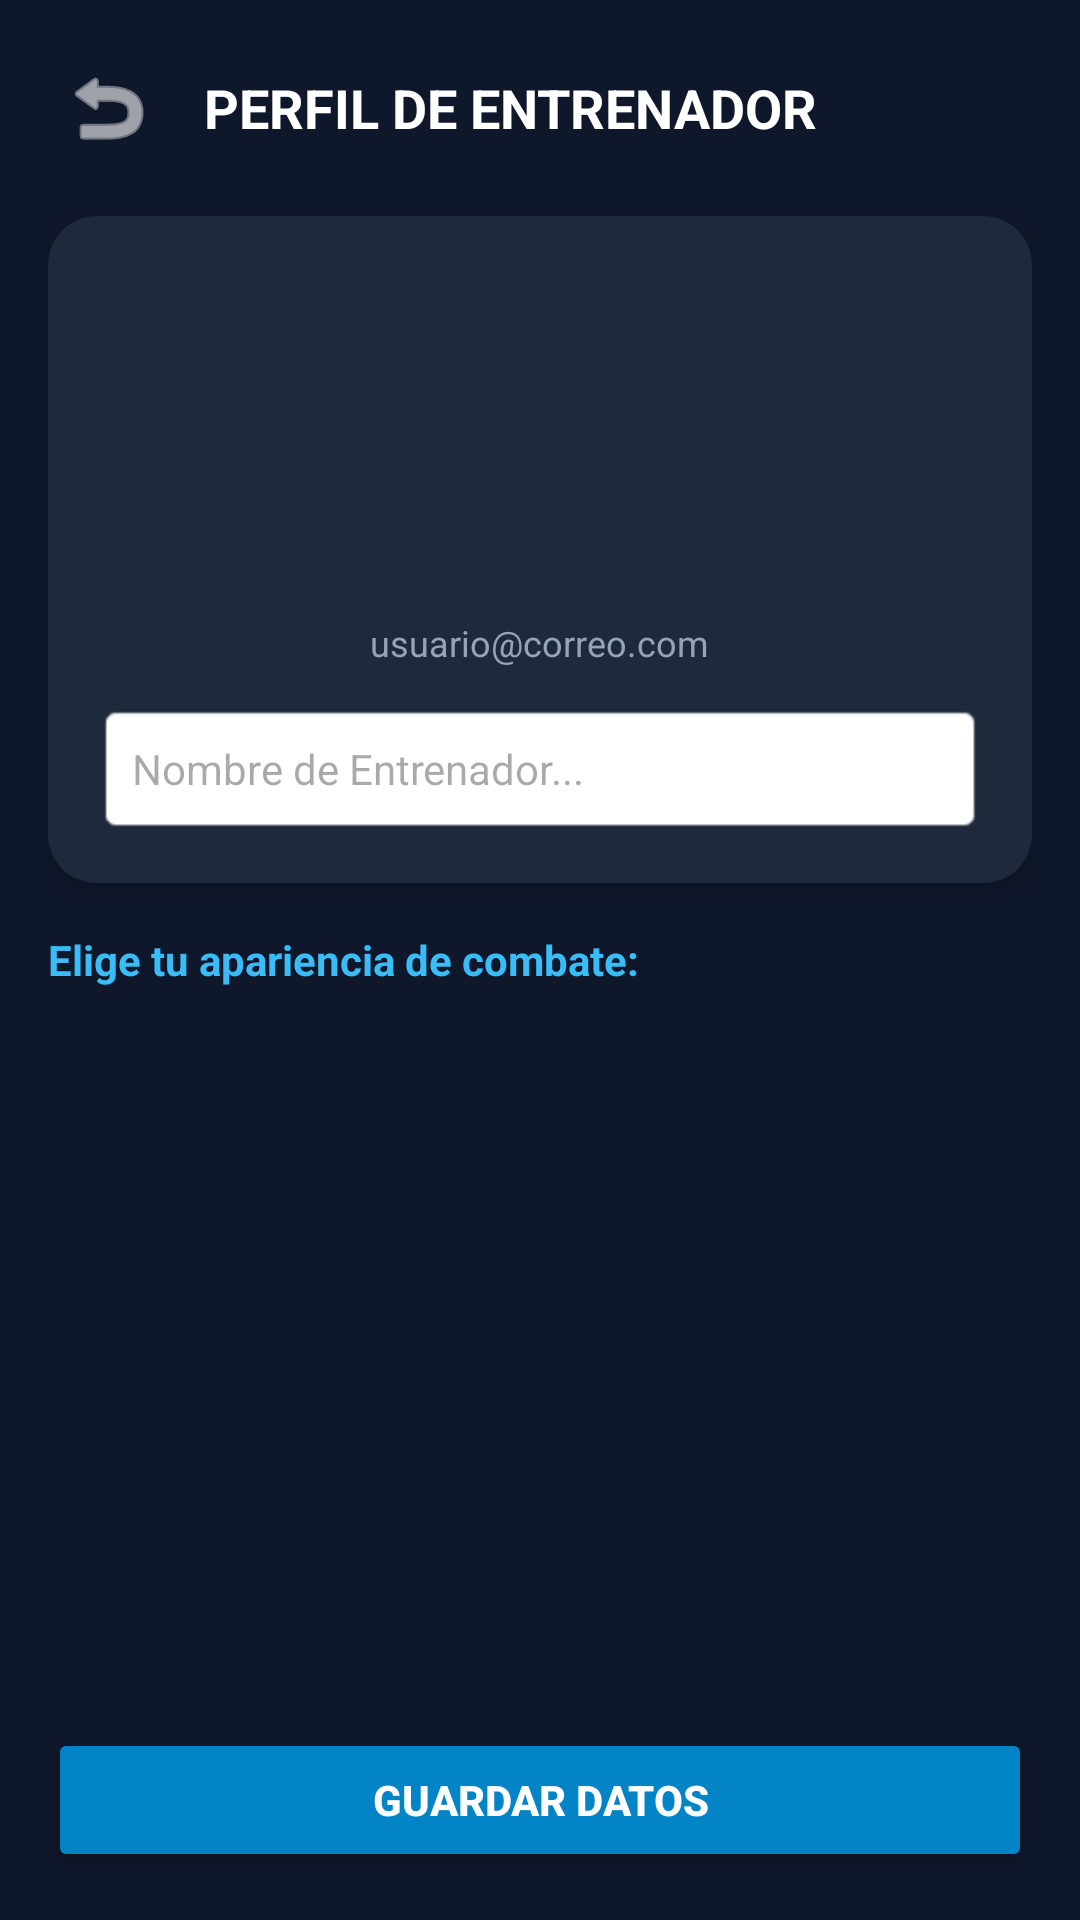

Point at icon controls on the screen. Image size 1080x1920, points as (x=x, y=y).
Regresar: (x=109, y=108)
